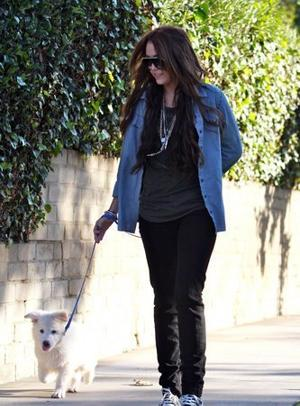person: (95, 26, 242, 405)
